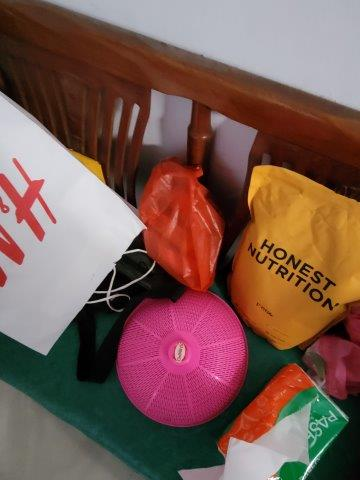plastik: (134, 160, 226, 296)
